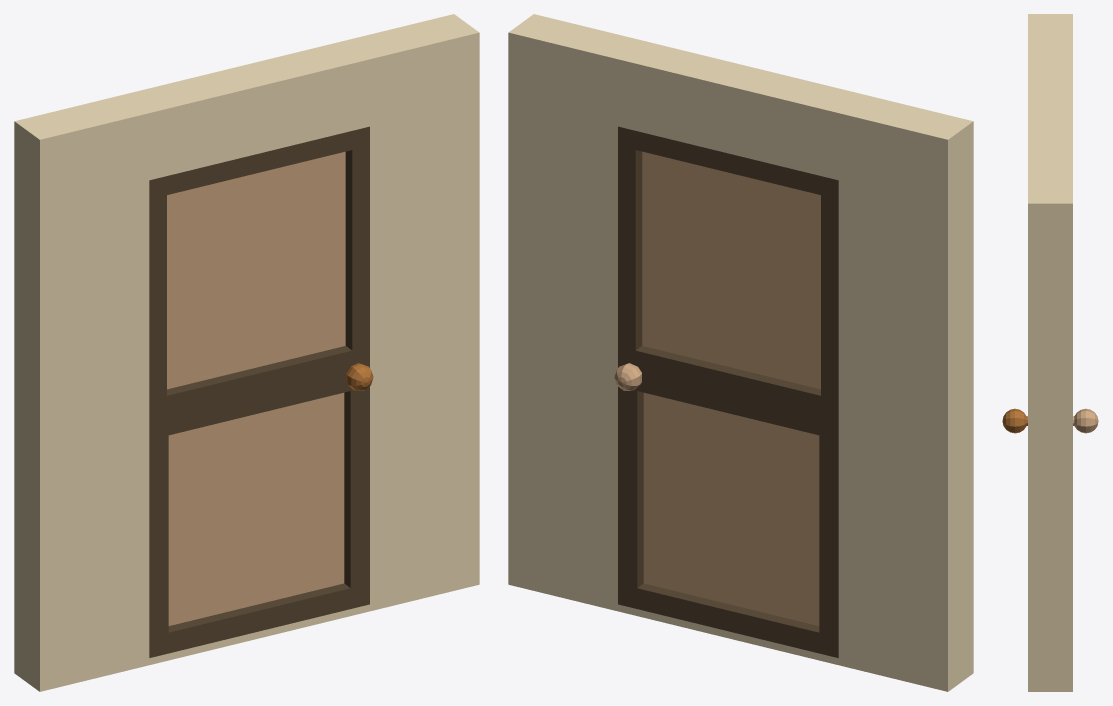
The model's file is Wall_Door04.fbx.
The picture shows the model from 3 angles, left to right: view 1: azimuth 30°, elevation 25°; view 2: azimuth 150°, elevation 25°; view 3: azimuth 270°, elevation 25°; orthographic projection. The views are drawn at different scales.
Visible parts, largest first — view 1: Wall, Door; view 2: Wall, Door; view 3: Wall, Door.
Part boxes in pixels (<box>): Wall: <box>14,14,479,691</box>; Door: <box>149,126,373,657</box>; Wall: <box>508,14,973,691</box>; Door: <box>614,126,838,657</box>; Wall: <box>1028,14,1072,691</box>; Door: <box>1002,408,1098,433</box>.
Bounding box in the file's own units: 2 × 2.4 × 0.428.
